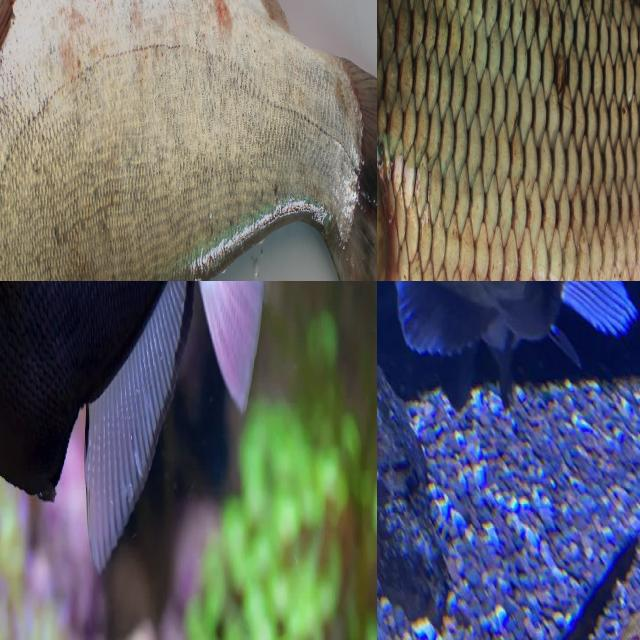fish: (0, 281, 322, 640), (0, 0, 377, 281), (377, 0, 640, 281), (390, 281, 640, 380)
